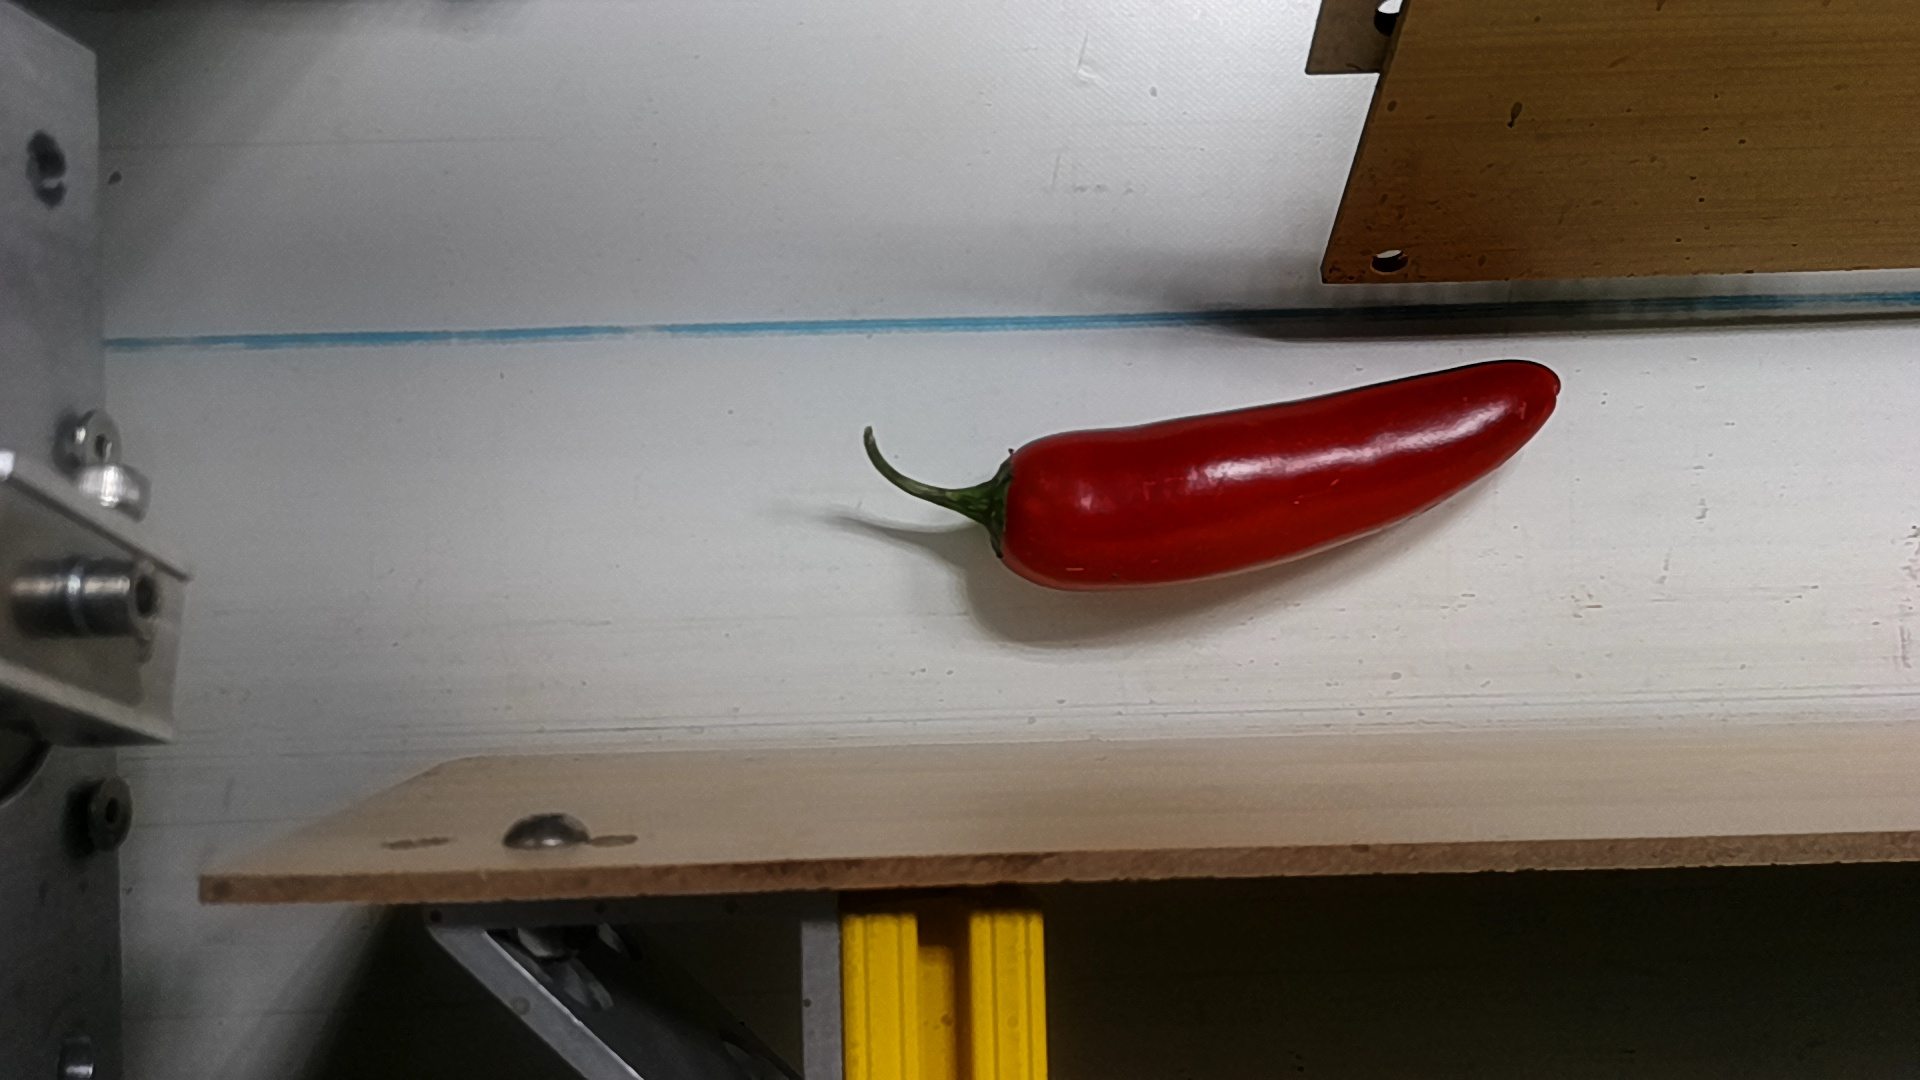Cut Point: (959, 434, 1062, 588)
